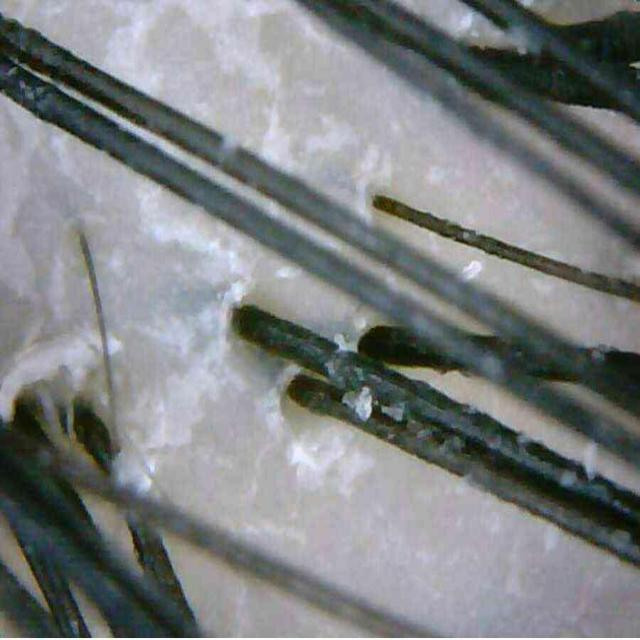d: (0, 329, 110, 434), (136, 369, 208, 450), (200, 280, 248, 365), (112, 448, 152, 493), (259, 114, 291, 169), (341, 386, 372, 421)
